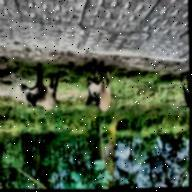boar: (17, 63, 60, 112), (84, 59, 112, 113)
